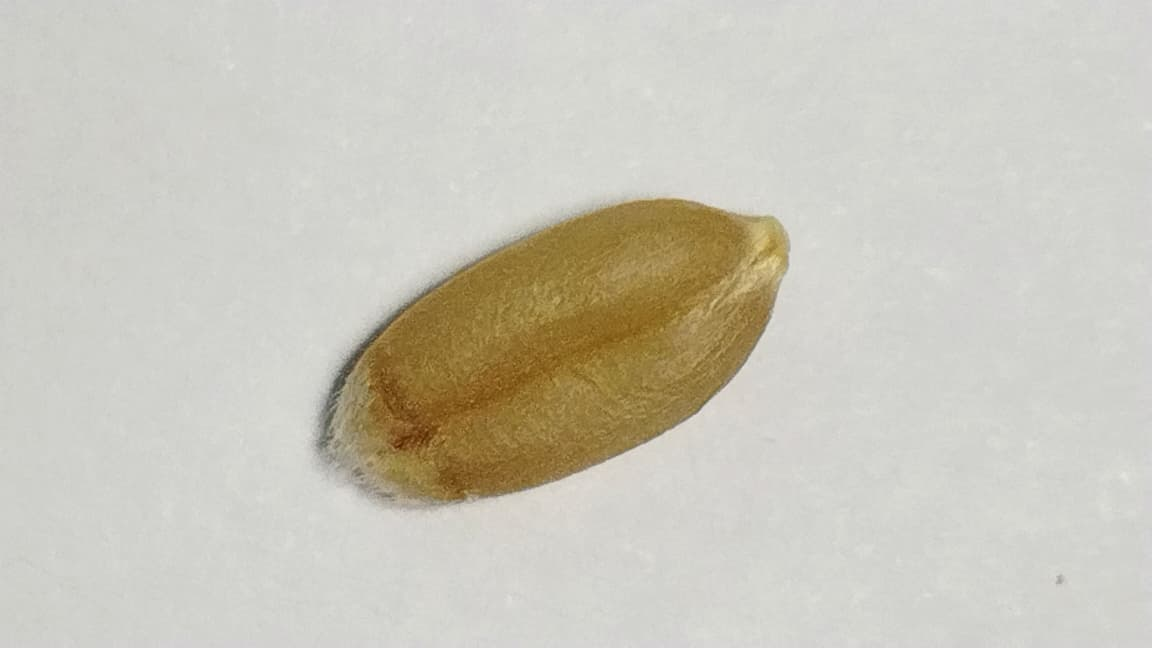healthy: (333, 199, 786, 498)
